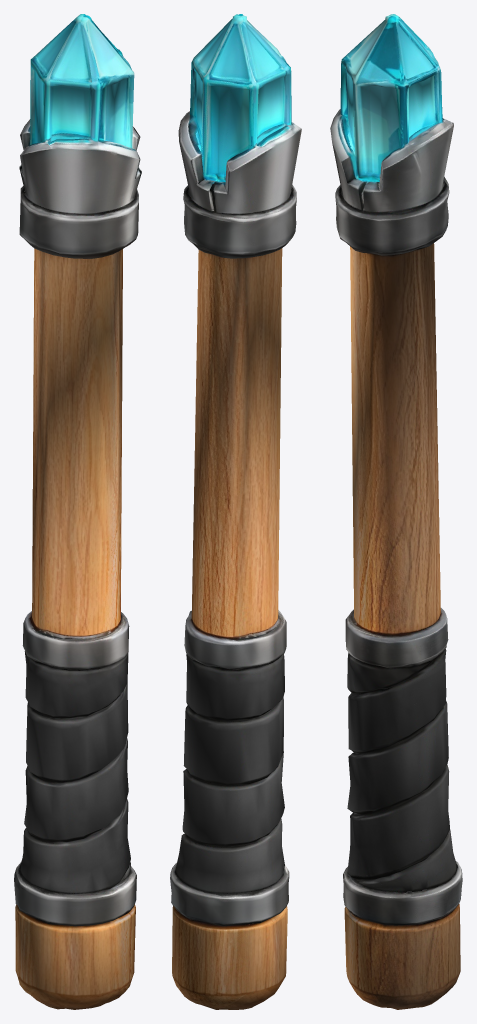
The model's file is staff_oak.fbx.
3 renders of one model, left to right at view 1: azimuth 90°, elevation 25°; view 2: azimuth 150°, elevation 25°; view 3: azimuth 330°, elevation 25°, orthographic.
Visible parts, largest first — view 1: staff_oak; view 2: staff_oak; view 3: staff_oak.
Part boxes in pixels (x1,y1,x2,y2): staff_oak: [14, 14, 141, 1009]; staff_oak: [170, 14, 301, 1009]; staff_oak: [330, 14, 462, 1009].
Bounding box in the file's own units: 0.059 × 0.5 × 0.0589.
